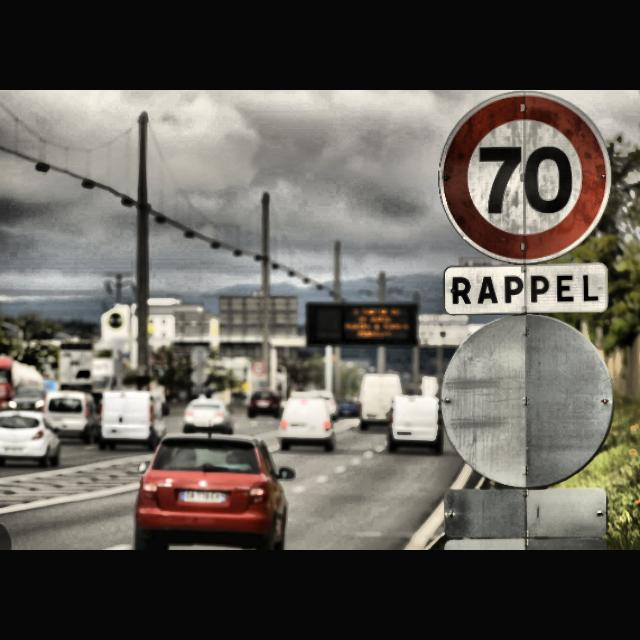speed_70: (439, 90, 613, 264)
